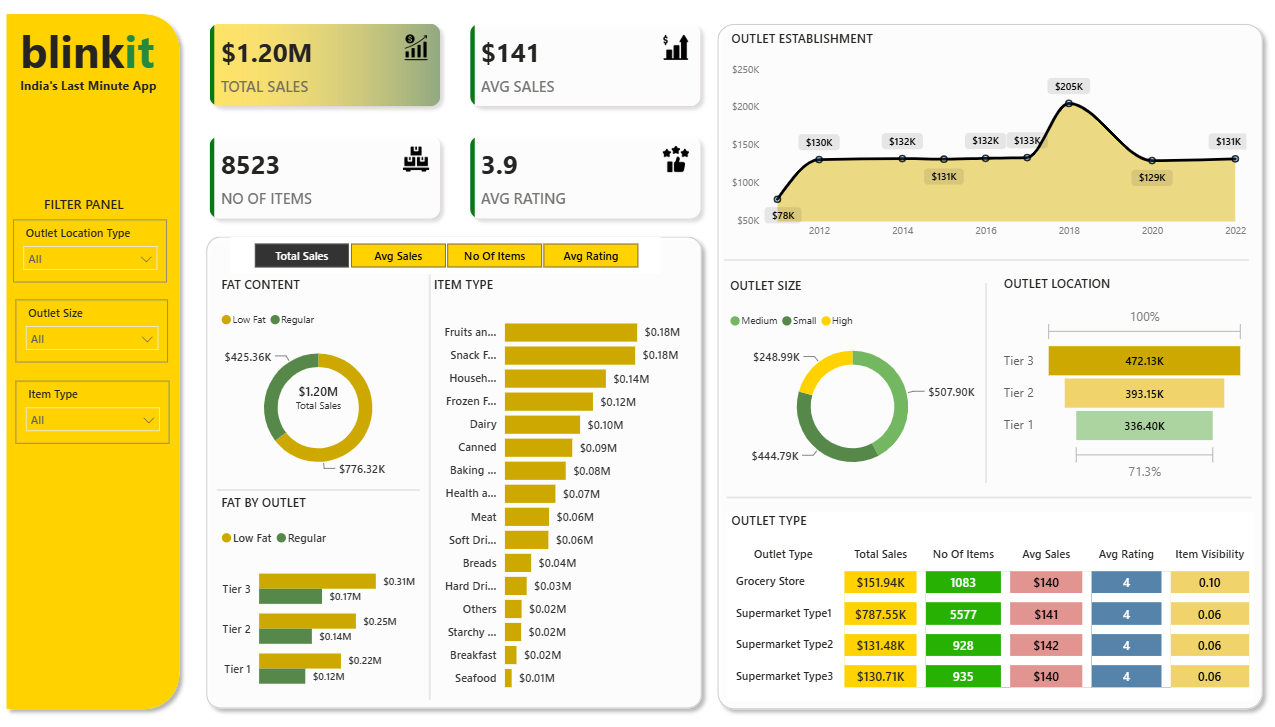

Layout of this report page (visuals, bound fields, positions):
{"tool":"powerbi","page":{"name":"Page 1","canvas":[1400,800],"ordinal":0},"visuals":[{"type":"shape","box":[0,9.4,205.1,769.4],"z":0},{"type":"textbox","box":[18.8,20.1,169,75],"z":1000},{"type":"textbox","box":[18.8,80.4,172,30],"z":2000},{"type":"cardVisual","fields":{"Data":["BlinkIT Grocery Data.total sales","BlinkIT Grocery Data.avg sales","BlinkIT Grocery Data.no of items","BlinkIT Grocery Data.avg rating"]},"box":[199.7,0,588.5,269.4],"z":3000},{"type":"shape","box":[215.8,250.7,553.6,528.2],"z":4000},{"type":"donutChart","title":"FAT CONTENT","fields":{"Y":["BlinkIT Grocery Data.Total Sales"],"Category":["BlinkIT Grocery Data.Item Fat Content"]},"box":[236.7,301.7,219.8,230.6],"z":5000},{"type":"slicer","fields":{"Values":["Metrics.Metrics"]},"box":[252,260.1,465,40],"z":6000},{"type":"cardVisual","fields":{"Data":["BlinkIT Grocery Data.Total Sales"]},"box":[286.9,399.5,120.6,64.3],"z":7000},{"type":"clusteredBarChart","title":"FAT BY OUTLET","fields":{"Y":["BlinkIT Grocery Data.Total Sales"],"Category":["BlinkIT Grocery Data.Outlet Location Type"],"Series":["BlinkIT Grocery Data.Item Fat Content"]},"box":[236.7,536.7,220,230],"z":8000},{"type":"shape","box":[236.7,520,219.8,25.5],"z":9000},{"type":"shape","box":[450.4,300.3,33.5,459.8],"z":10000},{"type":"barChart","title":" ITEM TYPE","fields":{"Y":["BlinkIT Grocery Data.Total Sales"],"Category":["BlinkIT Grocery Data.Item Type"]},"box":[466.7,301.7,276.7,460],"z":11000},{"type":"shape","box":[769.4,20.1,607.2,758.7],"z":12000},{"type":"lineChart","title":"OUTLET ESTABLISHMENT","fields":{"Y":["BlinkIT Grocery Data.Total Sales"],"Category":["BlinkIT Grocery Data.Outlet Establishment Year"]},"box":[788.2,34.9,567,234.6],"z":13000},{"type":"shape","box":[785.5,274.8,567,20.1],"z":14000},{"type":"donutChart","title":"OUTLET SIZE","fields":{"Y":["BlinkIT Grocery Data.Total Sales"],"Category":["BlinkIT Grocery Data.Outlet Size"]},"box":[786.1,303,275,225],"z":15000},{"type":"shape","box":[1060.3,309.7,14.7,215.8],"z":16000},{"type":"funnel","title":"OUTLET LOCATION","fields":{"Y":["Sum(BlinkIT Grocery Data.Sales)"],"Category":["BlinkIT Grocery Data.Outlet Location Type"]},"box":[1082.3,300.3,270.8,227.9],"z":17000},{"type":"shape","box":[788.2,530.8,567,20.1],"z":18000},{"type":"pivotTable","title":"OUTLET TYPE","fields":{"Rows":["BlinkIT Grocery Data.Outlet Type"],"Values":["BlinkIT Grocery Data.Total Sales","BlinkIT Grocery Data.No Of Items","BlinkIT Grocery Data.Avg Sales","BlinkIT Grocery Data.Avg Rating","Avg(BlinkIT Grocery Data.Item Visibility)"]},"box":[788.2,556.3,569.7,203.8],"z":19000},{"type":"slicer","fields":{"Values":["BlinkIT Grocery Data.Outlet Location Type"]},"box":[16.7,240,166.7,68.3],"z":20000},{"type":"slicer","fields":{"Values":["BlinkIT Grocery Data.Outlet Size"]},"box":[18.3,327.5,165,68.3],"z":21000},{"type":"slicer","fields":{"Values":["BlinkIT Grocery Data.Item Type"]},"box":[18.3,415,166.7,68.3],"z":22000},{"type":"textbox","box":[45,210,120,40],"z":22001}]}

Visuals, with their boxes in screenshot pixels (x1, y1, x2, y2), scaled from the page's 1400x800 canvas onto the 1275x727 screenshot:
shape: region(0, 9, 187, 708)
textbox: region(17, 18, 171, 86)
textbox: region(17, 73, 174, 100)
cardVisual - BlinkIT Grocery Data.total sales x BlinkIT Grocery Data.avg sales: region(182, 0, 718, 245)
shape: region(197, 228, 701, 708)
"FAT CONTENT" donutChart: region(216, 274, 416, 484)
slicer - Metrics.Metrics: region(230, 236, 653, 273)
cardVisual - BlinkIT Grocery Data.Total Sales: region(261, 363, 371, 421)
"FAT BY OUTLET" clusteredBarChart: region(216, 488, 416, 697)
shape: region(216, 473, 416, 496)
shape: region(410, 273, 441, 691)
" ITEM TYPE" barChart: region(425, 274, 677, 692)
shape: region(701, 18, 1254, 708)
"OUTLET ESTABLISHMENT" lineChart: region(718, 32, 1234, 245)
shape: region(715, 250, 1232, 268)
"OUTLET SIZE" donutChart: region(716, 275, 966, 480)
shape: region(966, 281, 979, 478)
"OUTLET LOCATION" funnel: region(986, 273, 1232, 480)
shape: region(718, 482, 1234, 501)
"OUTLET TYPE" pivotTable: region(718, 506, 1237, 691)
slicer - BlinkIT Grocery Data.Outlet Location Type: region(15, 218, 167, 280)
slicer - BlinkIT Grocery Data.Outlet Size: region(17, 298, 167, 360)
slicer - BlinkIT Grocery Data.Item Type: region(17, 377, 168, 439)
textbox: region(41, 191, 150, 227)
